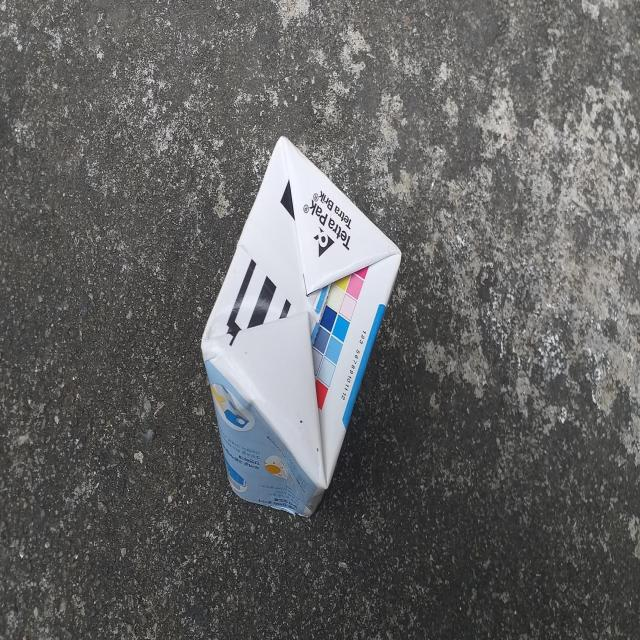paperpack: (202, 136, 401, 516)
